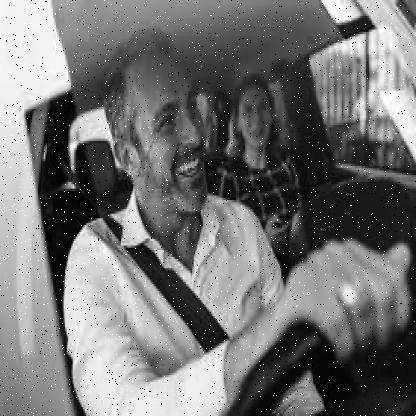seatbelt: (80, 28, 230, 362)
